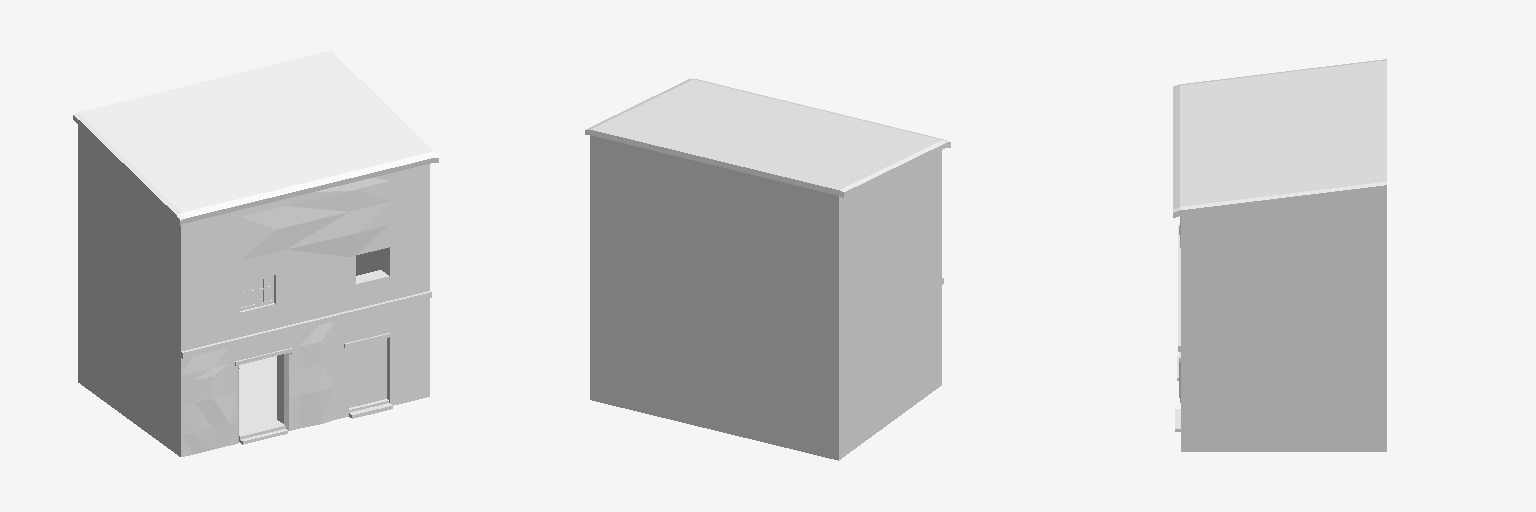
The model's file is BuildingA.obj.
3 renders of one model, left to right at view 1: azimuth 30°, elevation 25°; view 2: azimuth 150°, elevation 25°; view 3: azimuth 270°, elevation 25°, orthographic.
Visible parts, largest first — view 1: BuildingA; view 2: BuildingA; view 3: BuildingA.
Part boxes in pixels (left/top/right/bottom): BuildingA: left=73, top=52, right=438, bottom=456; BuildingA: left=585, top=79, right=950, bottom=460; BuildingA: left=1173, top=59, right=1386, bottom=451.
Bounding box in the file's own units: 313 × 312 × 225.